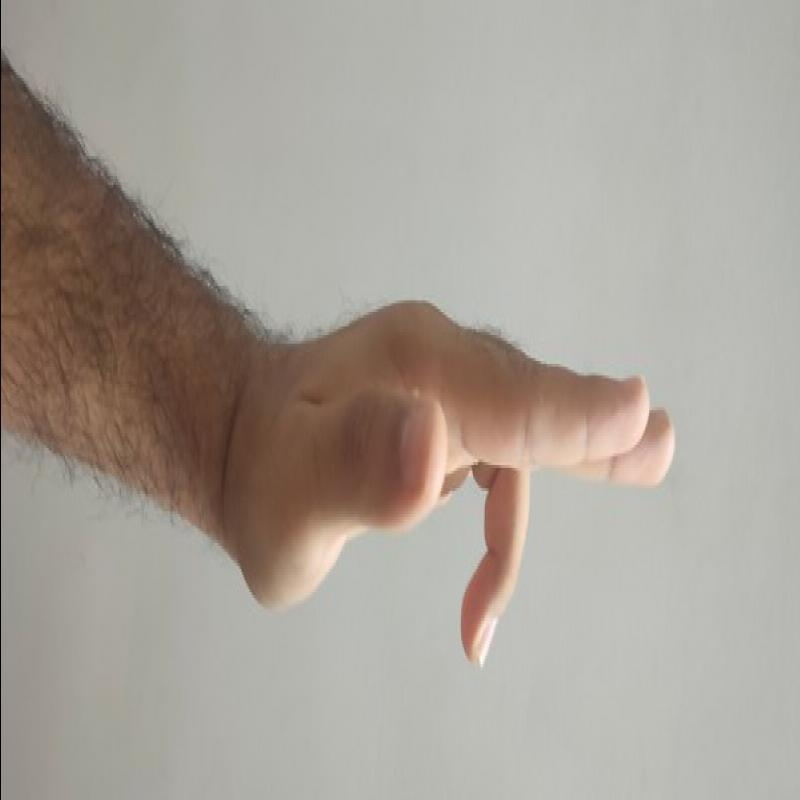Pathaaka: (233, 284, 685, 682)
